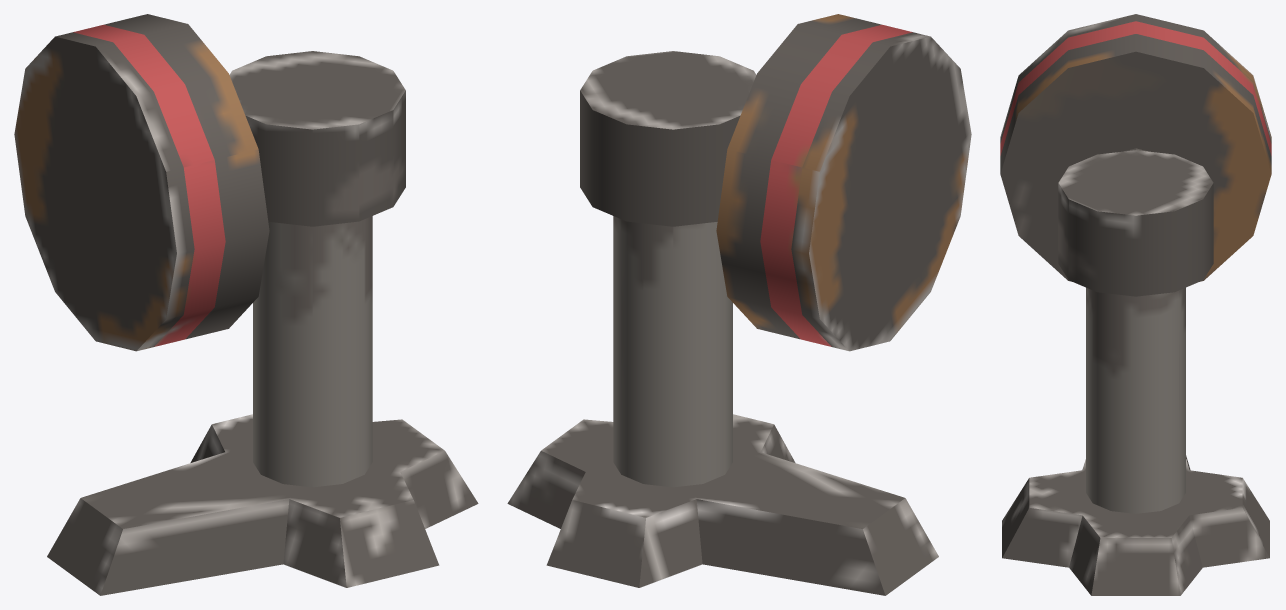
File: strongMagnet.fbx
3 renders of one model, left to right at view 1: azimuth 30°, elevation 25°; view 2: azimuth 150°, elevation 25°; view 3: azimuth 270°, elevation 25°, orthographic. The views are drawn at different scales.
Visible parts, largest first — view 1: Circle; view 2: Circle; view 3: Circle.
Boxes of the visible parts, x1,y1,x2,y2 form: Circle: (14,14,478,595); Circle: (507,14,971,595); Circle: (1000,14,1271,595).
Bounding box in the file's own units: 28.75 × 38.1 × 21.42.
